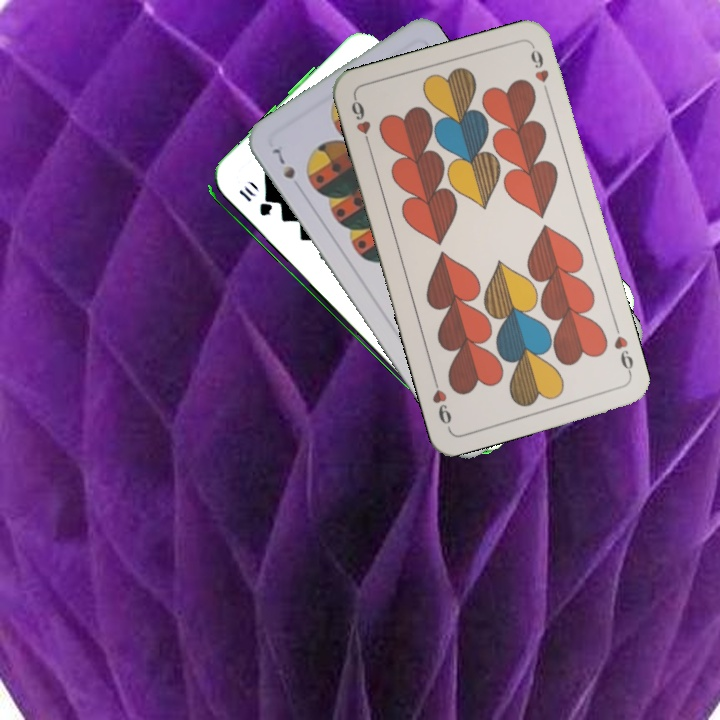G10: (234, 182, 274, 219)
H9: (347, 93, 374, 151), (610, 331, 636, 379)
S7: (269, 143, 298, 182)
